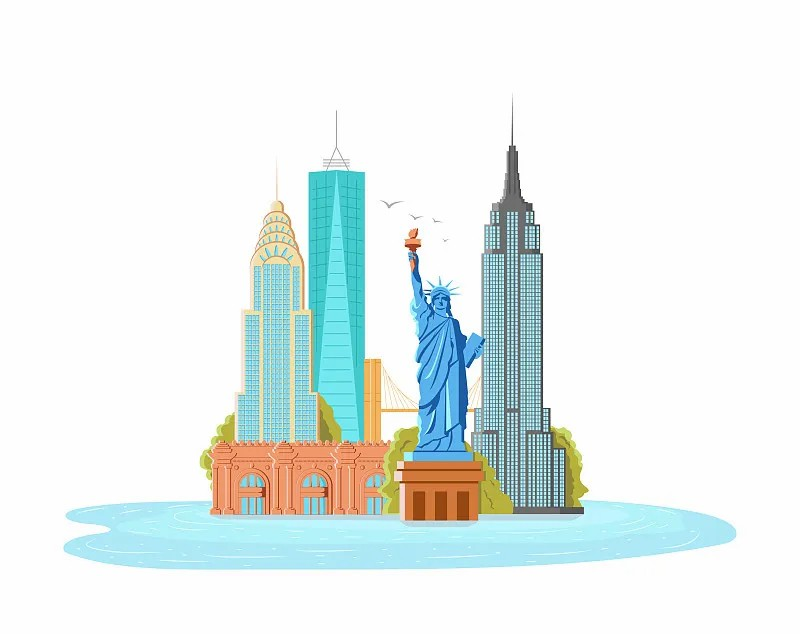SL: (394, 228, 485, 522)
